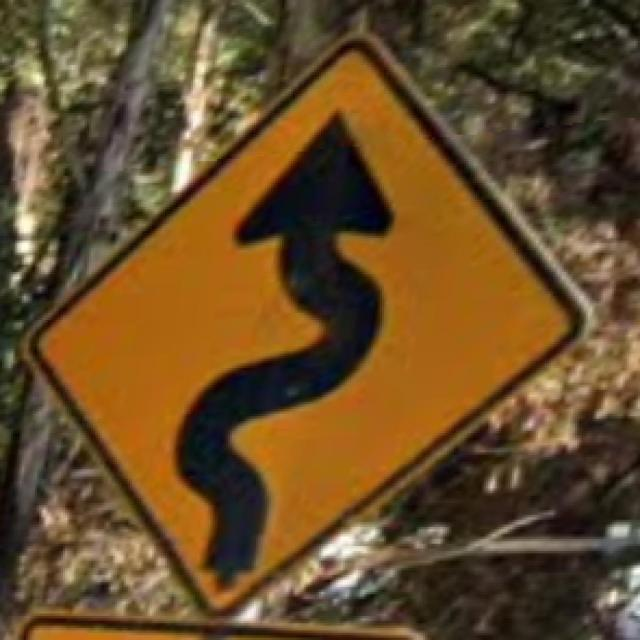Banyak Tikungan Pertama Kiri: (13, 21, 597, 626)
